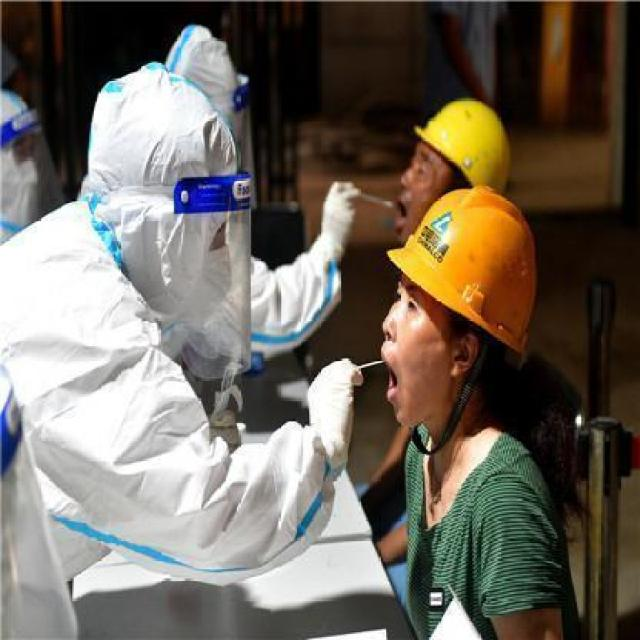face_nomask: (372, 269, 452, 425), (394, 148, 451, 225)
hand_glove: (300, 354, 368, 452), (314, 180, 357, 268)
head_helmet: (398, 186, 552, 351), (416, 100, 526, 188)
person: (15, 81, 310, 640), (363, 191, 622, 640)
